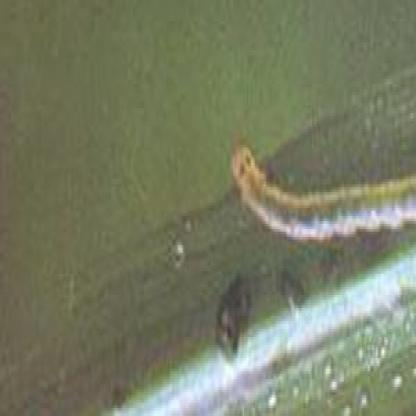leaf-folder: (233, 127, 416, 250)
